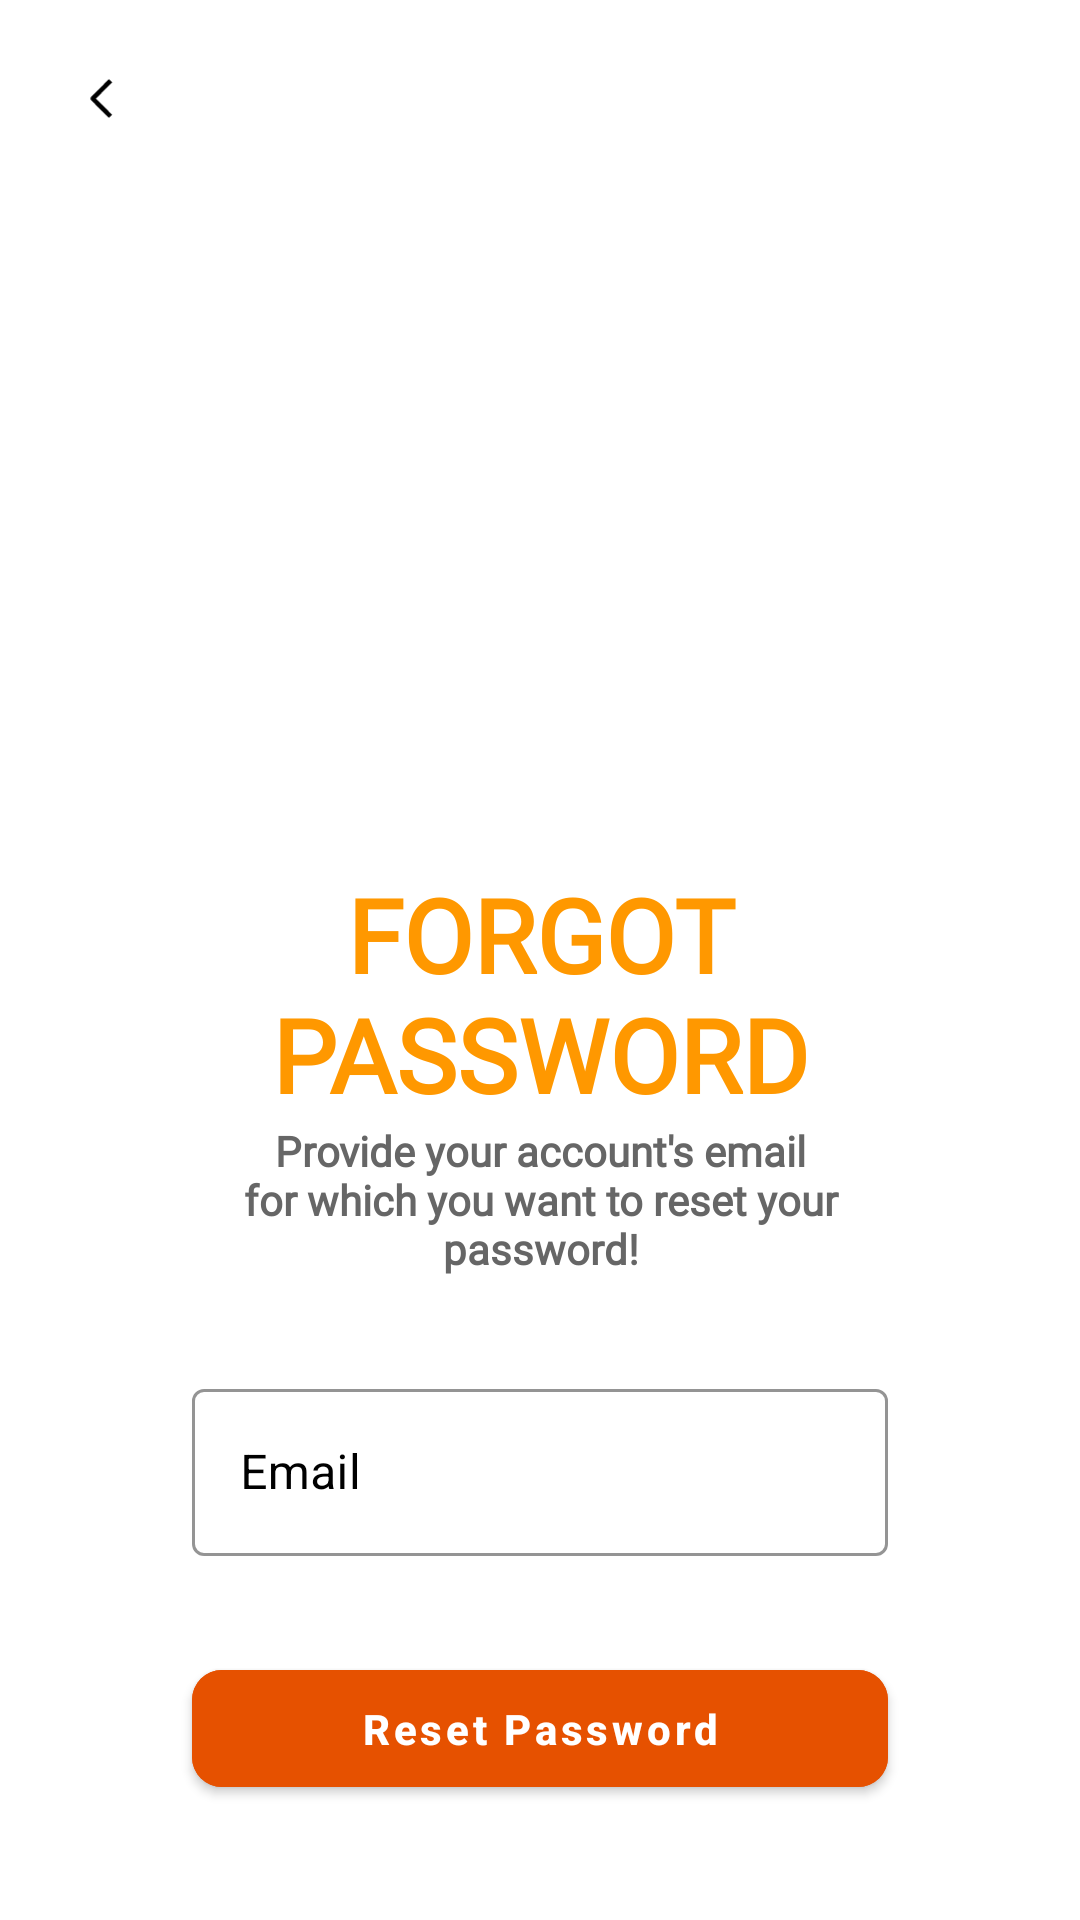

Icon click points for this 1080*1920 phone screenshot, format [x,y]:
back: [101,98]
